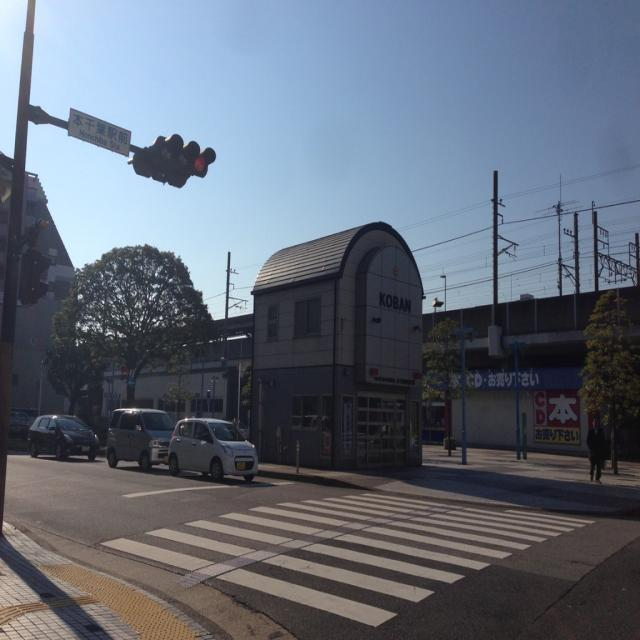traffic light: (152, 136, 218, 173)
